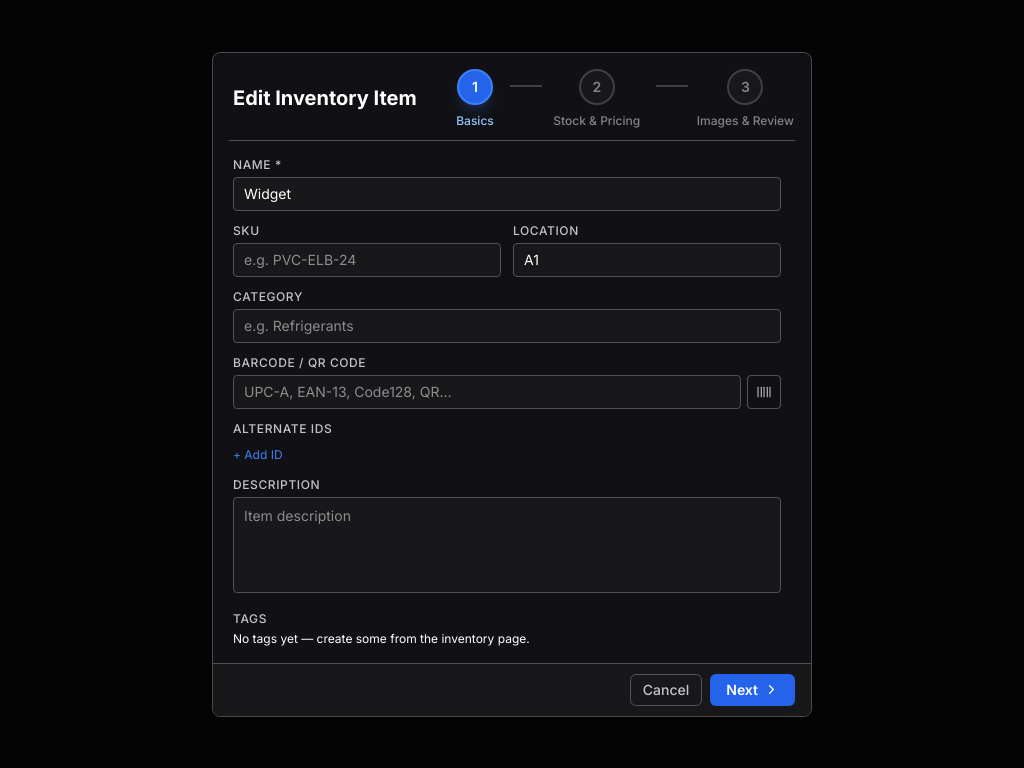
Scenario: edit — unit change payload › renders the server's refusal and offers the checkbox when it saw stock this form didn't
Click the button "Next".
click(753, 690)  # box [710,674,795,706]
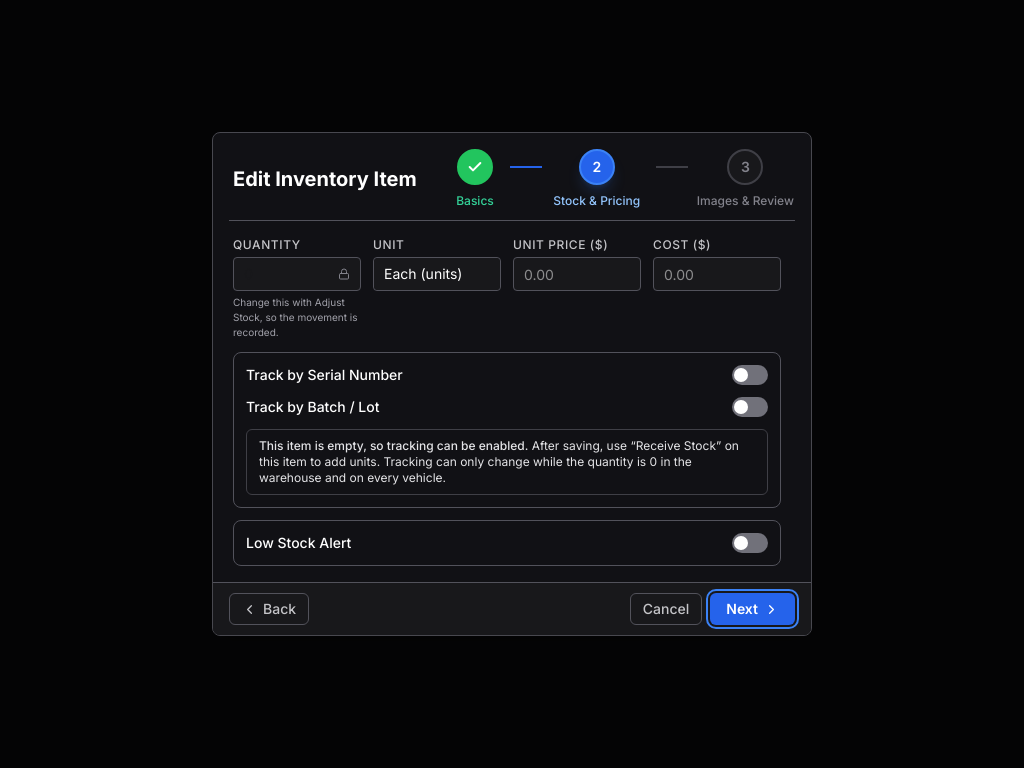
Select "Boxes" in the dropdown named "Unit of measure" at (437, 274), box [374,258,500,290]
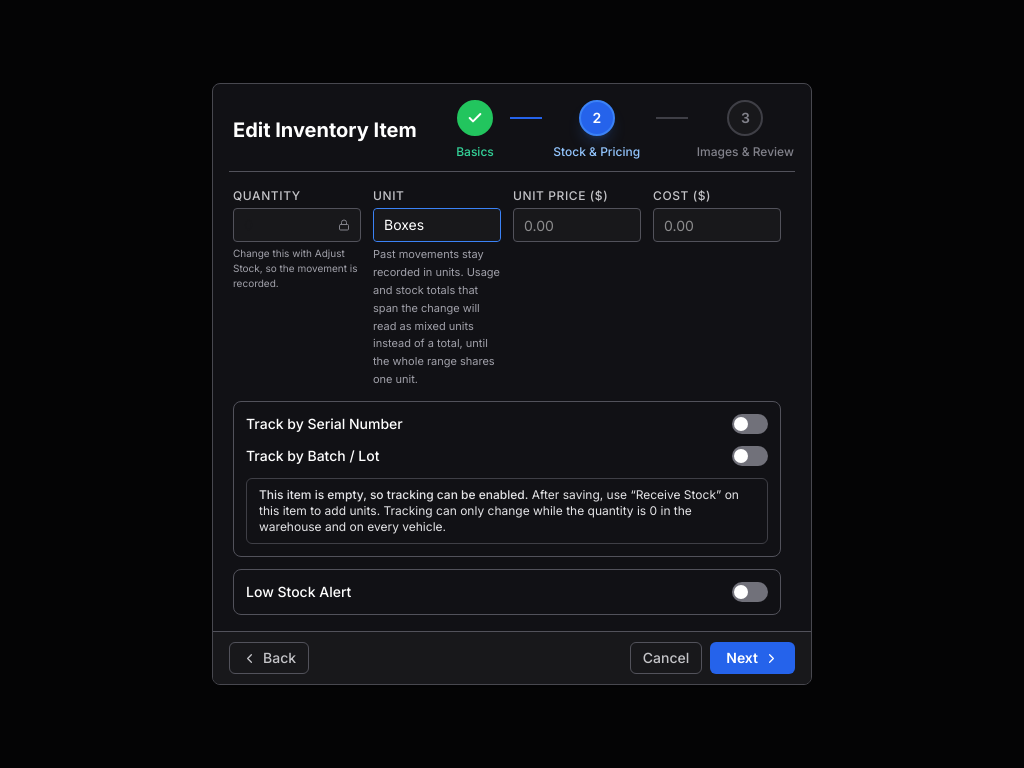
Check: the checkbox labelled "I understand" is not shown
Click the button "Next".
click(753, 658)  # box [710,642,795,674]
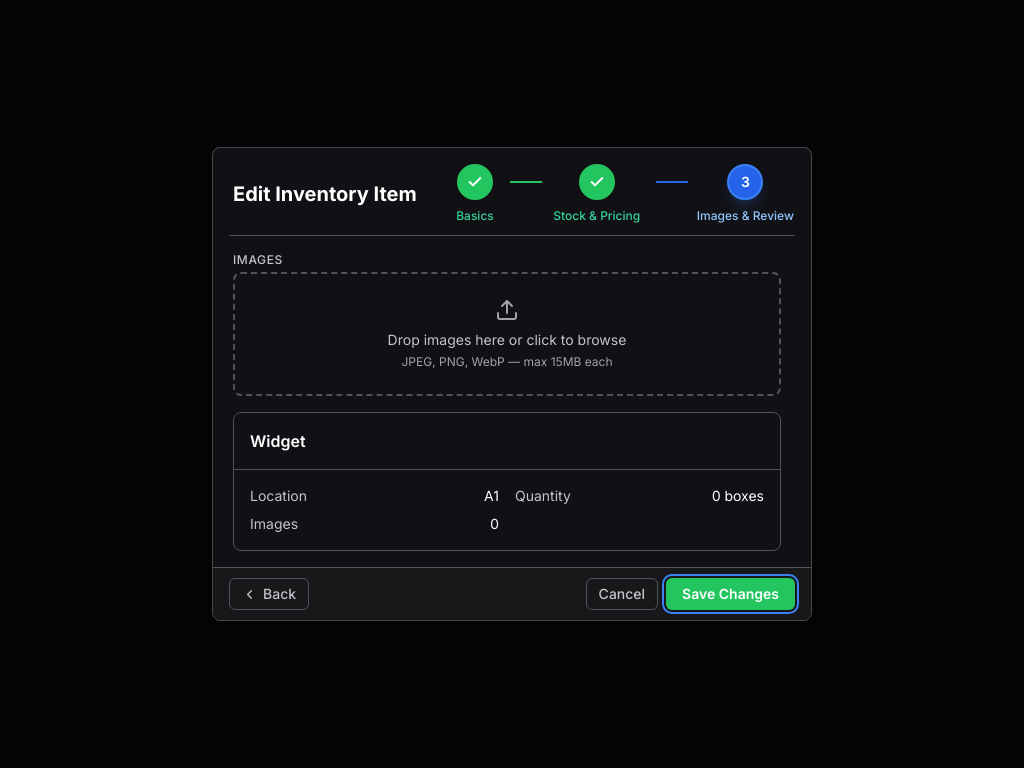
Click the button "Save Changes".
click(731, 594)  # box [666,578,795,610]
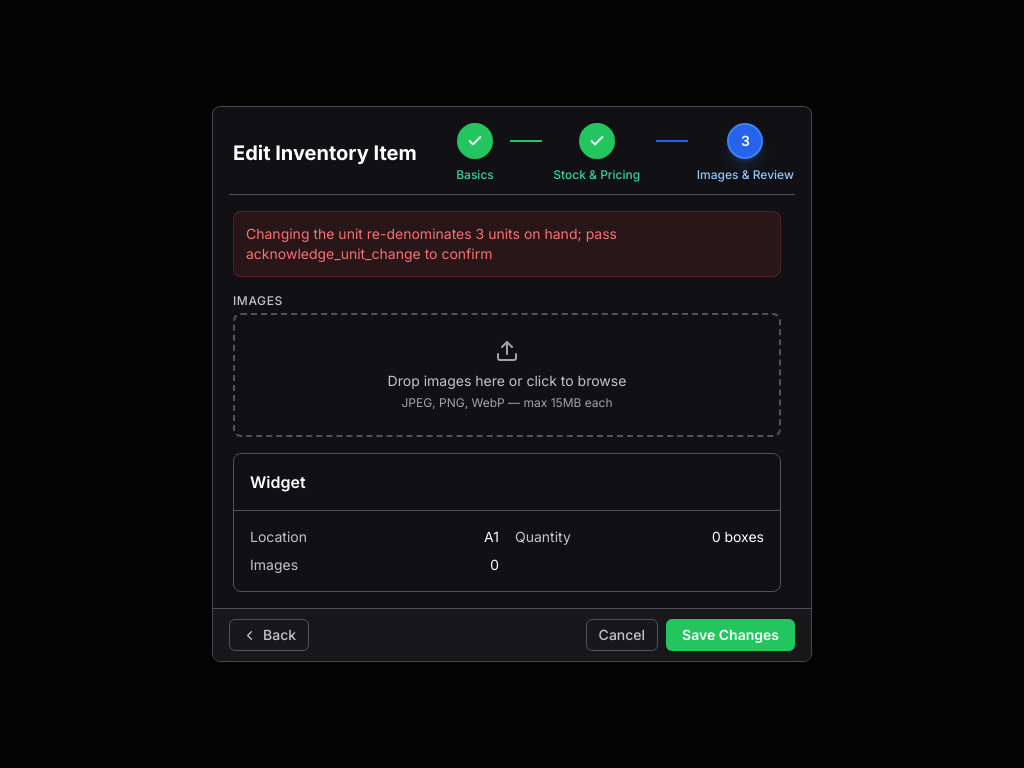
Check: the text "re-denominates 3 units on hand; pass acknowledge_unit_change" is shown, box [246,225,617,262]
Click the button "Back".
click(269, 635)  # box [229,619,309,651]
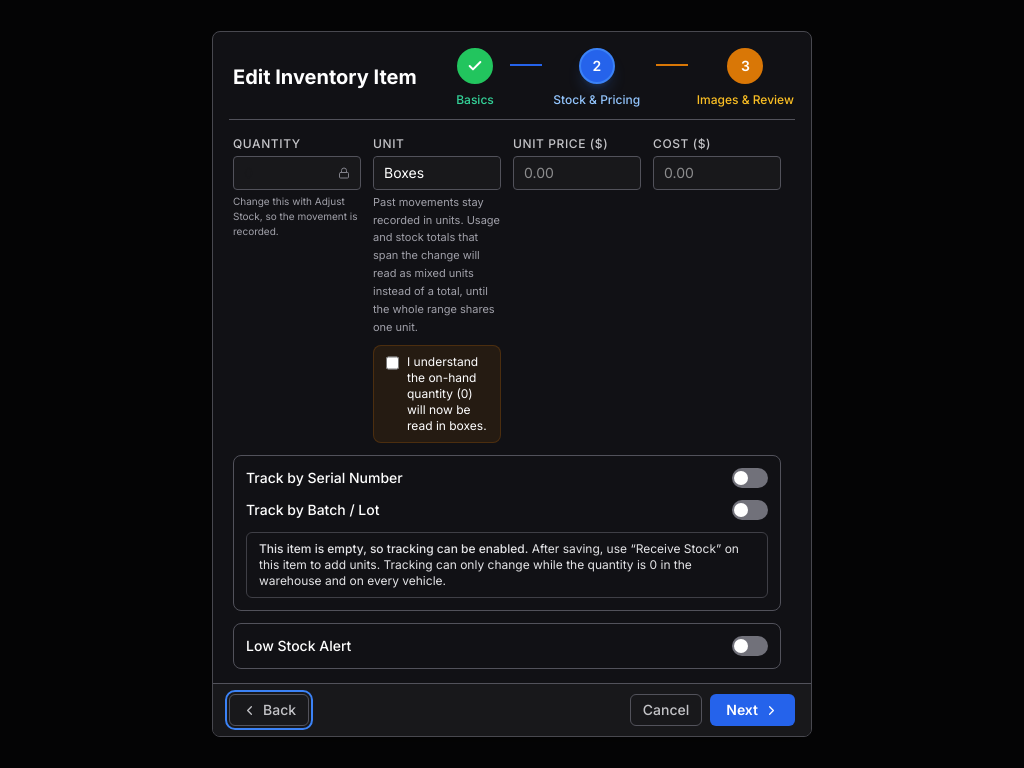
Check: the checkbox labelled "I understand" is shown, box [386,356,399,370]
